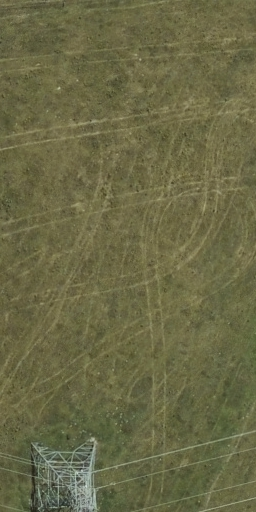TT: (23, 434, 107, 512)
